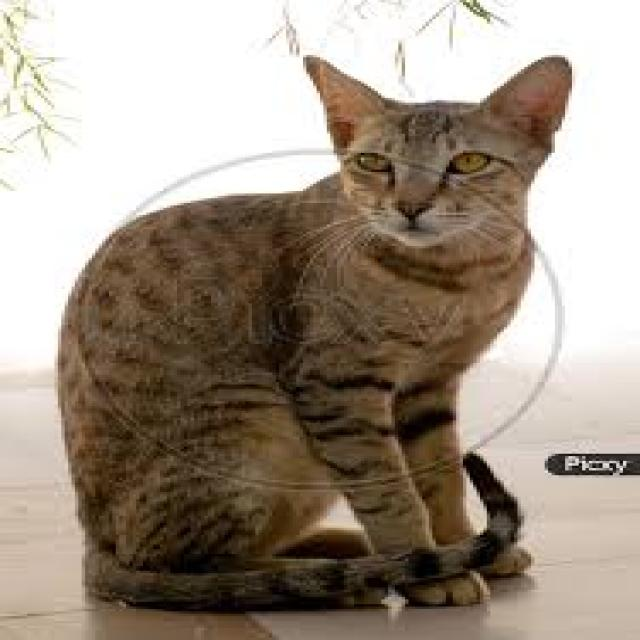Cat: (44, 51, 579, 612)
